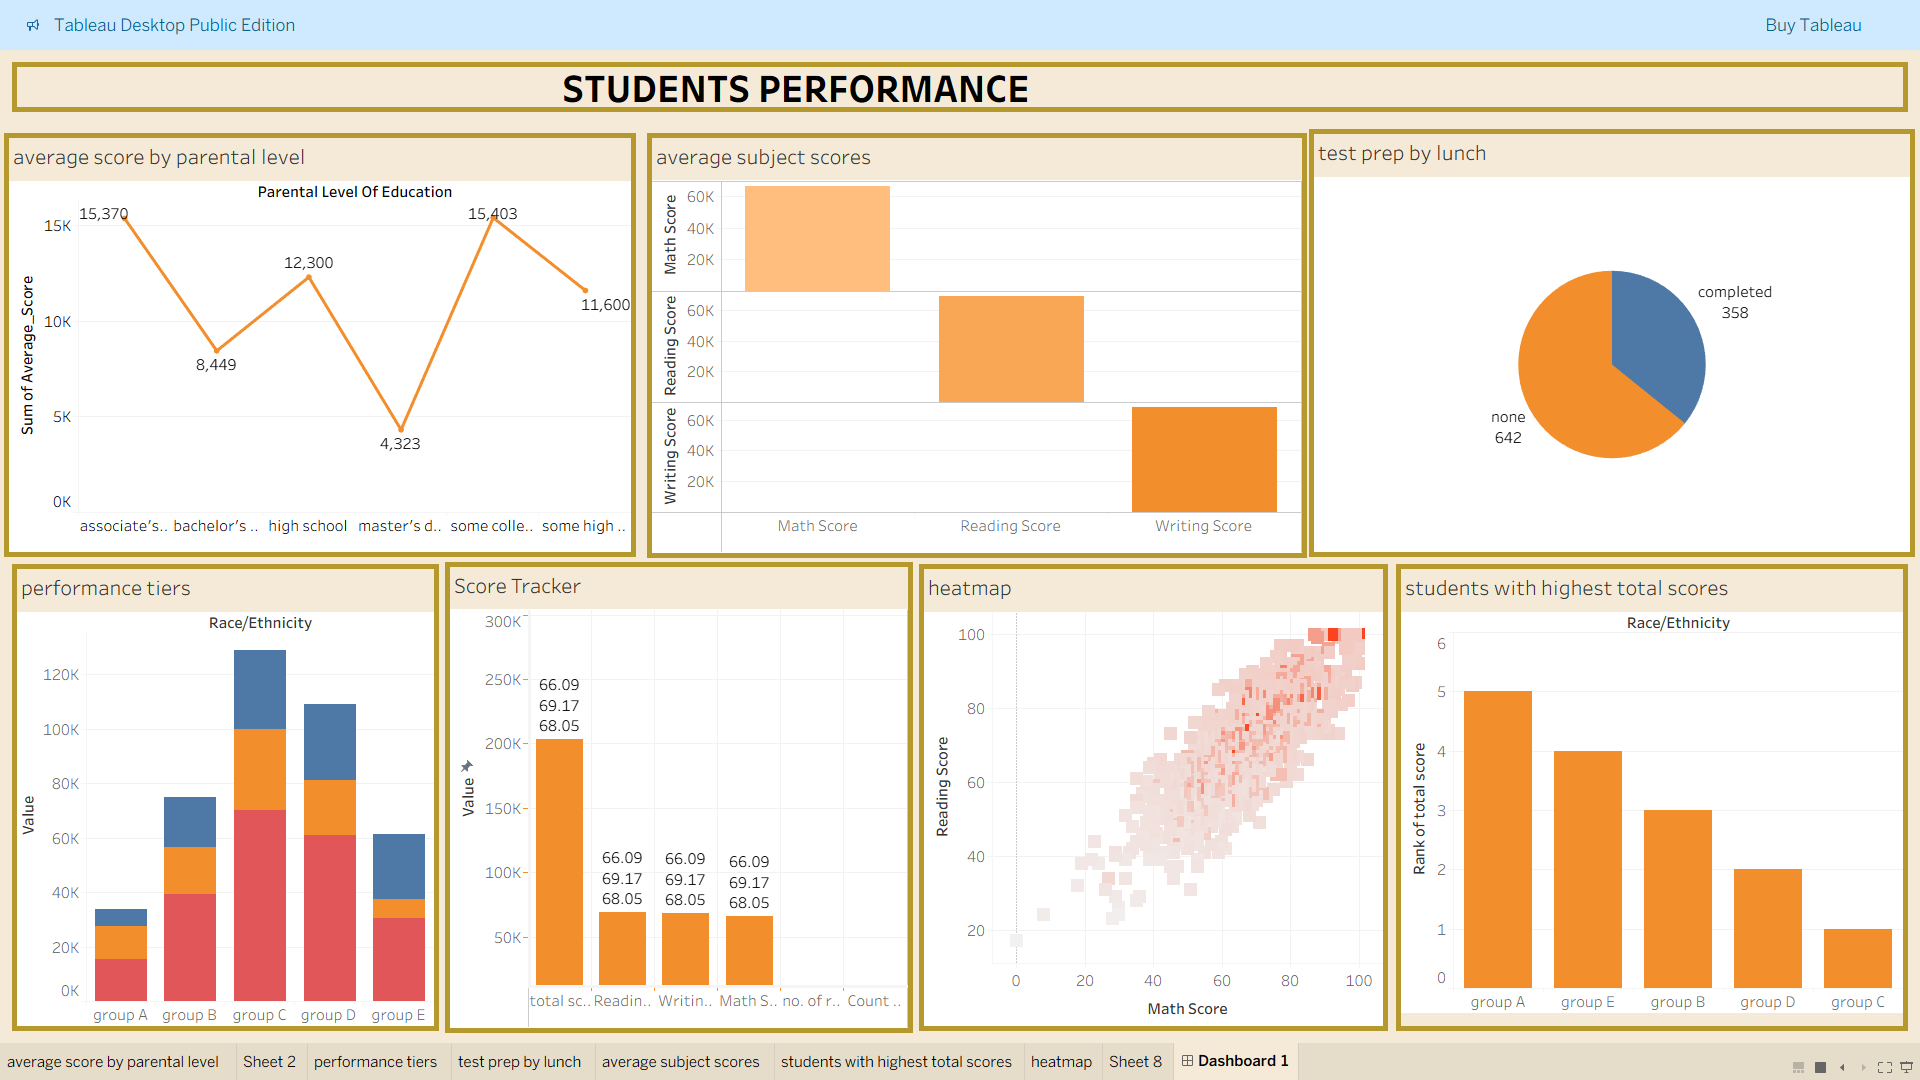

This screenshot's page, from the dashboard's own definition file:
{"tool":"tableau","page":{"name":"Dashboard 1","canvas":[1000,1000],"units":"permille","ordinal":0},"visuals":[{"type":"title","box":[4.8,9.3,990.3,67.4]},{"type":"worksheet","title":"test prep by lunch","mark":"Pie","box":[681.9,79.9,315.8,430.7]},{"type":"worksheet","title":"average score by parental level","mark":"Line","rows":["Calculation_229120684847370240"],"cols":["parental level of education"],"box":[2.3,83.7,329.2,427]},{"type":"worksheet","title":"average subject scores","mark":"Bar","rows":["math score","reading score","writing score"],"box":[336.9,83.7,343.9,428.2]},{"type":"worksheet","title":"performance tiers","mark":"Bar","cols":["race/ethnicity"],"box":[4.8,518,226.3,472.7]},{"type":"worksheet","title":"Sheet 8","mark":"Automatic","box":[231.1,518,245.6,472.7]},{"type":"worksheet","title":"heatmap","mark":"Square","rows":["reading score"],"cols":["math score"],"box":[476.7,518,248,472.7]},{"type":"worksheet","title":"students with highest total scores","mark":"Automatic","rows":["Calculation_1673087315499036672"],"cols":["race/ethnicity"],"box":[724.8,518,270.4,472.7]}]}

Visuals, with their boxes on the dashboard's canvas, which has no fixed pixel size, in thousandths of its width and height (x1, y1, x2, y2). These are canvas units, not pixel positions in the 1920x1080 screenshot, which may show the page scaled, cropped or inside an application window:
title: 5,9,995,77
"test prep by lunch" worksheet (Pie marks): 682,80,998,511
"average score by parental level" worksheet (Line marks): 2,84,332,511
"average subject scores" worksheet (Bar marks): 337,84,681,512
"performance tiers" worksheet (Bar marks): 5,518,231,991
"Sheet 8" worksheet: 231,518,477,991
"heatmap" worksheet (Square marks): 477,518,725,991
"students with highest total scores" worksheet: 725,518,995,991
